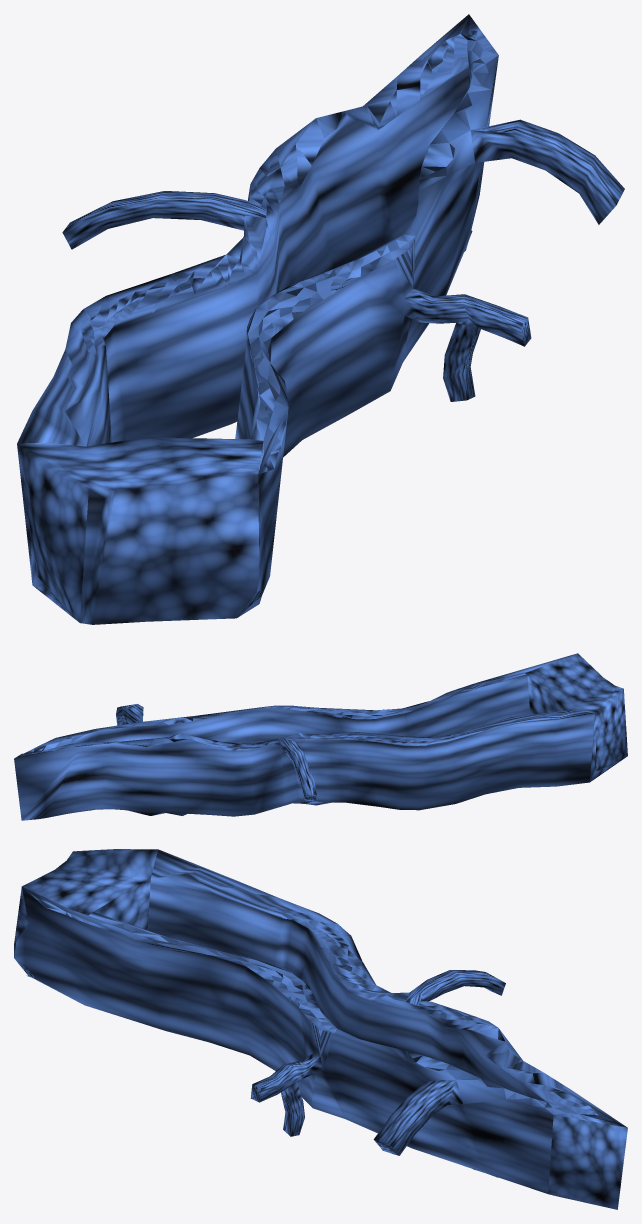
File: CanyonSplit.fbx
3 views of the same model, one above another, from view 1: azimuth 30°, elevation 25°; view 2: azimuth 150°, elevation 25°; view 3: azimuth 270°, elevation 25° (orthographic). The views are drawn at different scales.
Parts seen in each view (by area): view 1: makevr_0010; view 2: makevr_0010; view 3: makevr_0010.
Boxes of the visible parts, bbox=[...] form: makevr_0010: bbox=[17, 14, 624, 624]; makevr_0010: bbox=[14, 653, 627, 820]; makevr_0010: bbox=[14, 849, 627, 1209].
Bounding box in the file's own units: 1509 × 311 × 1490.
